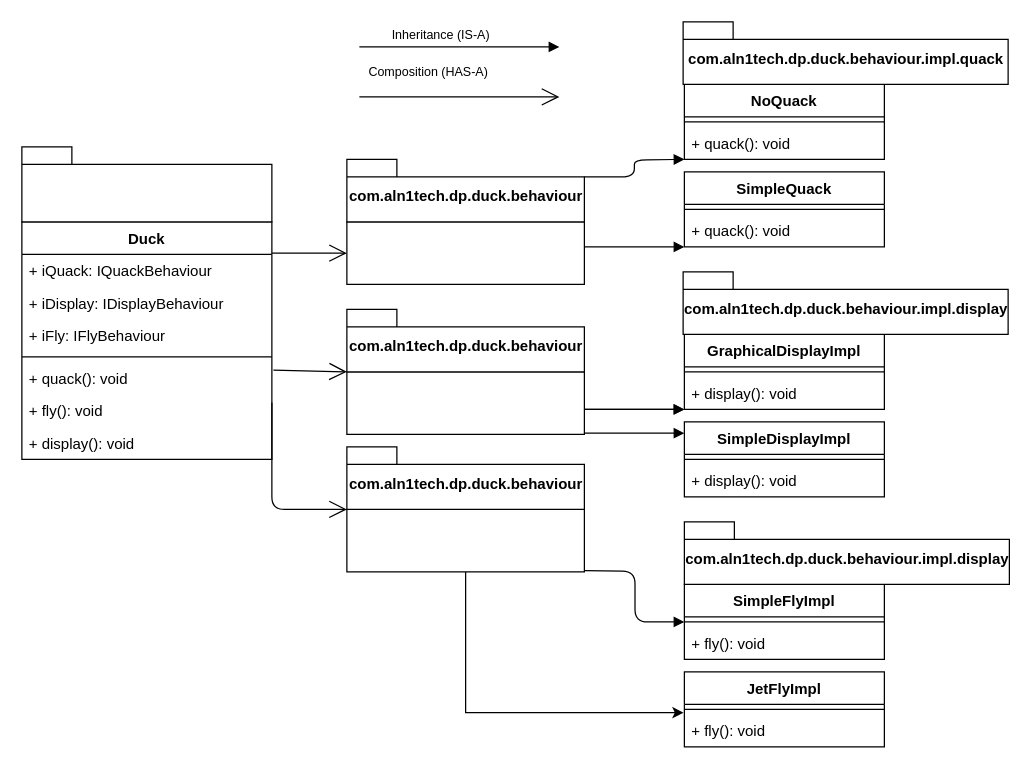
Some shapes in this 1031 by 773 pixel diagram are drawn without their labels. Here are the shapes that lost their labels. From the top down, the centre of each, then its label:
(x=146, y=184): com.aln1tech.dp.duck
(x=465, y=252): IQuackBehaviour
(x=465, y=402): IDisplayBehaviour
(x=465, y=540): IFlyBehaviour
